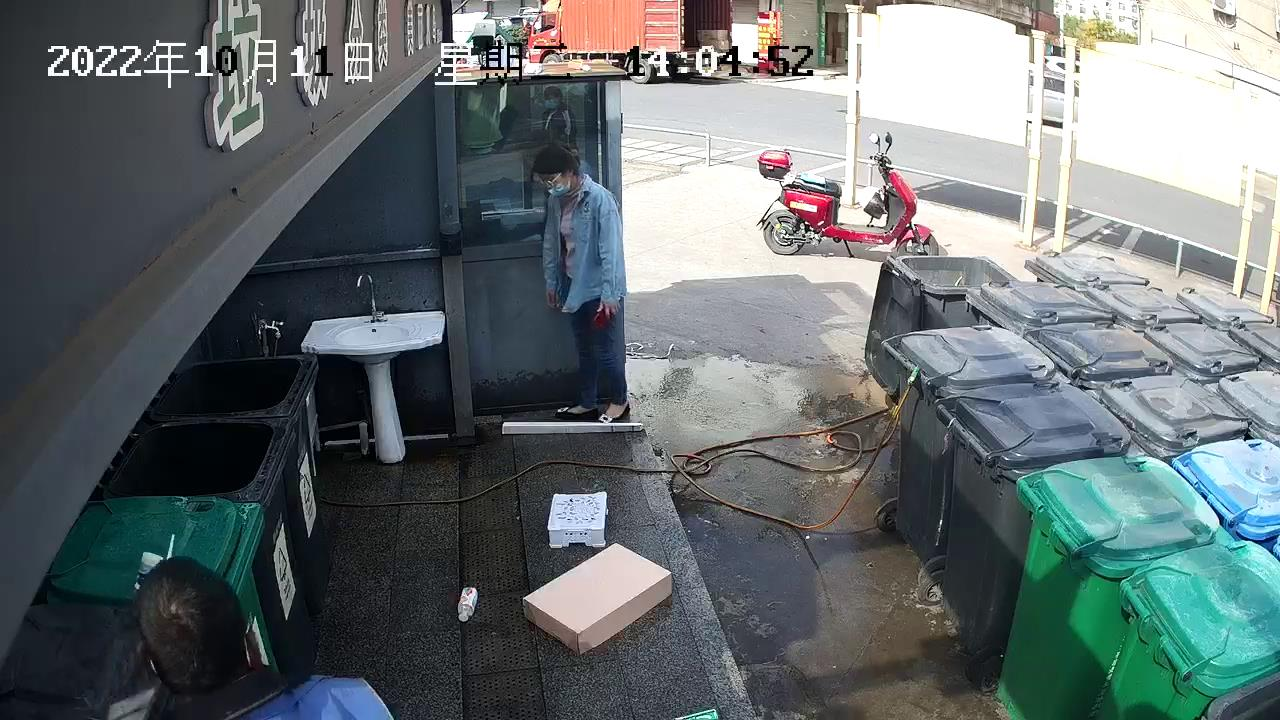suliaozhipin: (545, 488, 610, 550), (456, 582, 479, 622)
worker: (131, 553, 392, 720), (526, 143, 633, 425)
zhizhipin: (519, 541, 674, 656)
